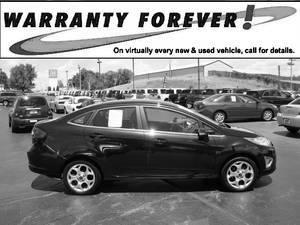car: (28, 101, 277, 195)
